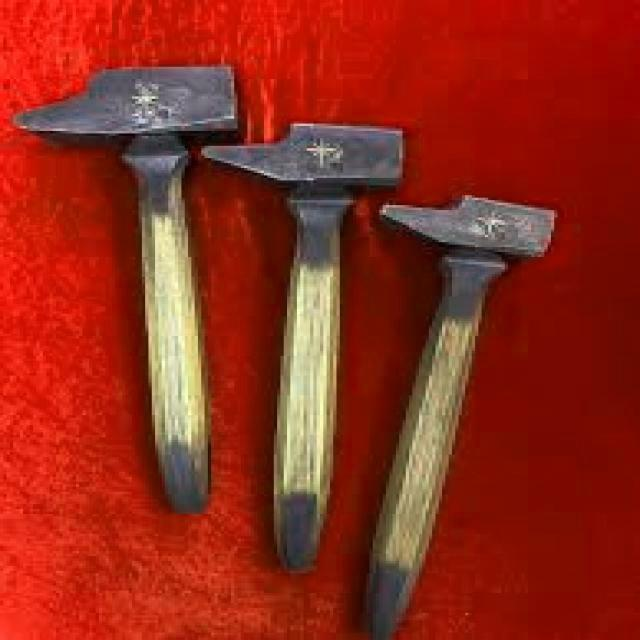hammer: (7, 50, 255, 522), (339, 192, 577, 640), (214, 100, 429, 584)
